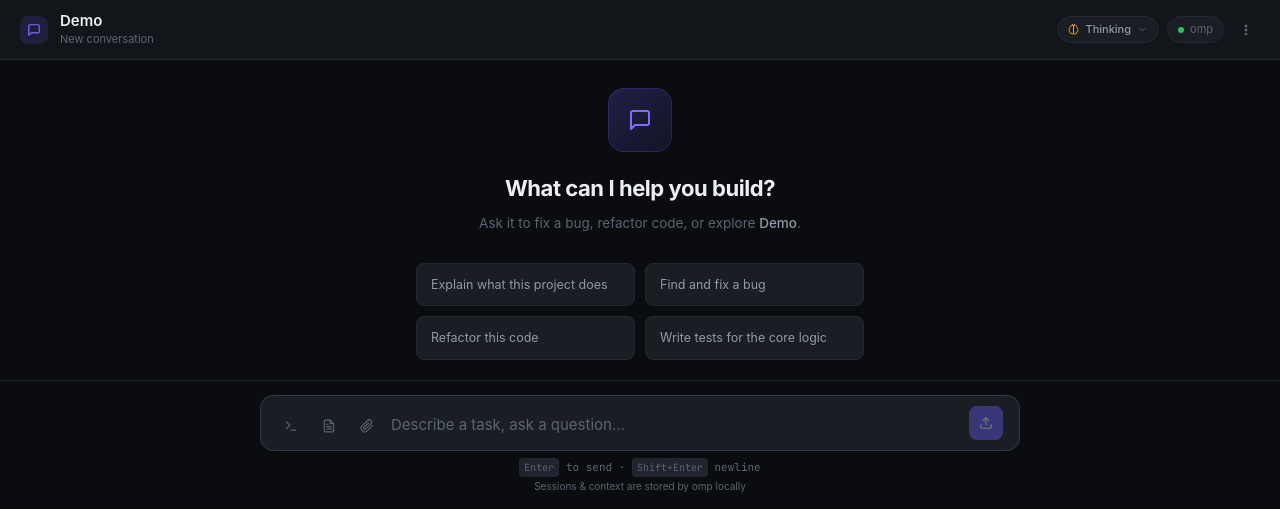
Test: AgentChat › keeps the first message visible when the session is created implicitly by sending
This screenshot has width=1280, height=509.
Type "hello there" into the text box with placeholder "Describe a task, ask a question…" at (675, 425), box [391,410,959,440]
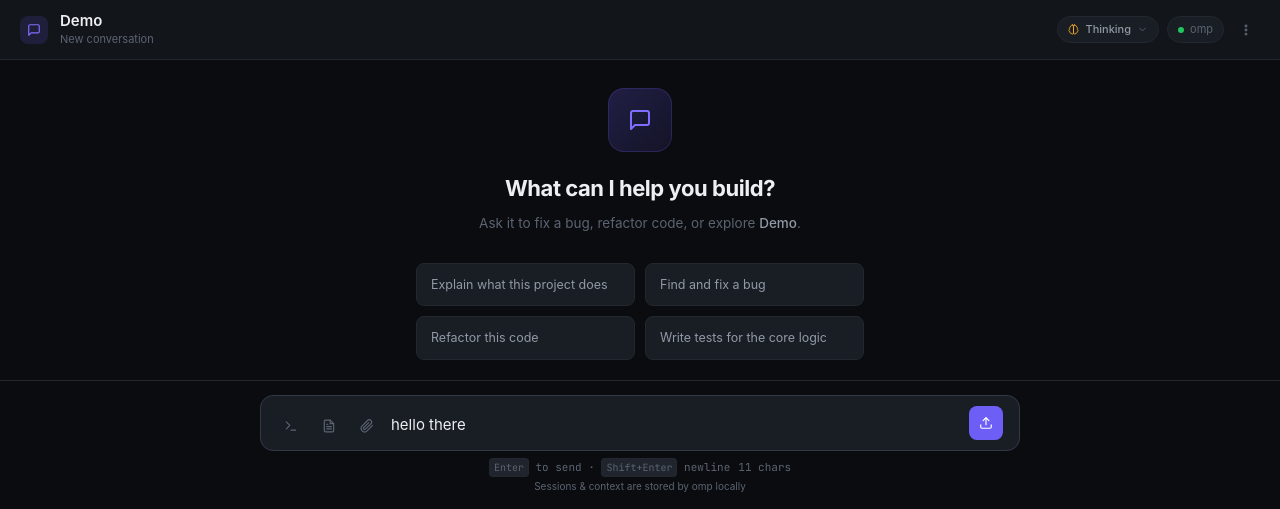
Click the button named "Send message" at (986, 423), box [969,406,1003,440]
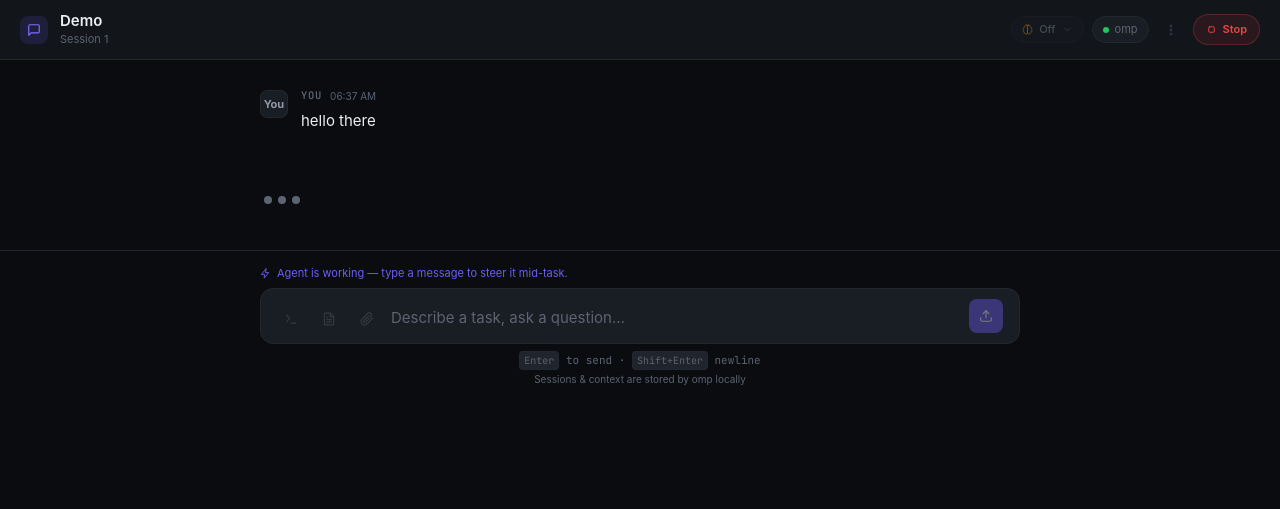
Expected: the text "hello there" is shown, [301,111,376,130]
